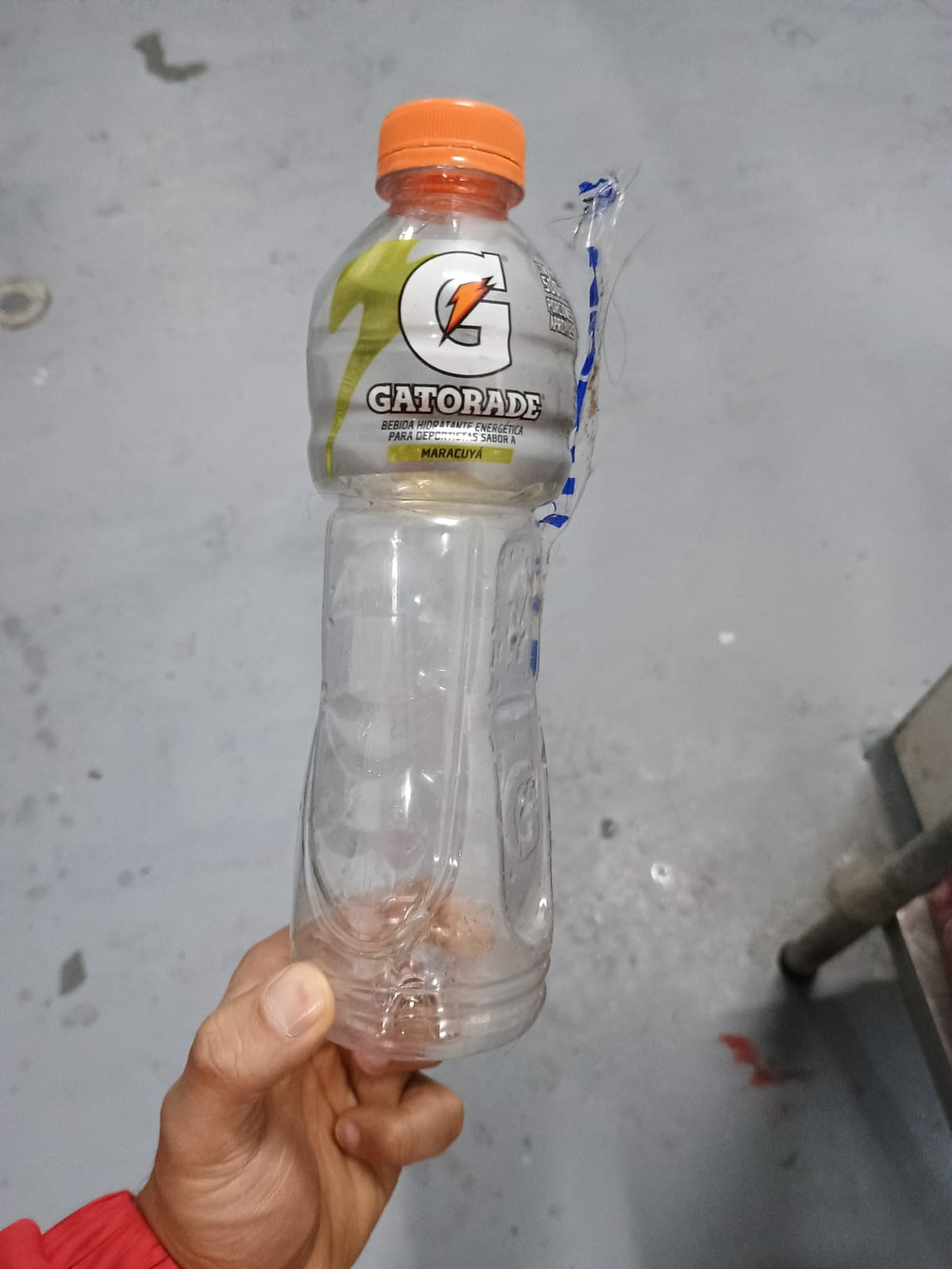Plastico: (285, 97, 575, 1060)
